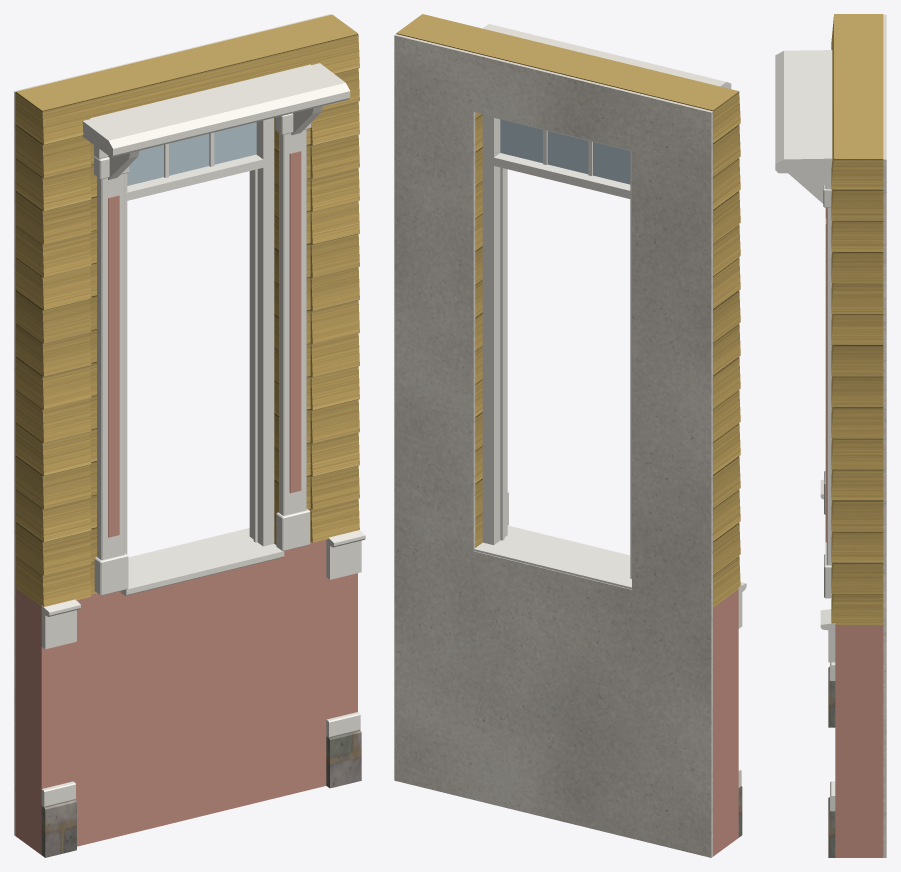
Rendered from f_g_door_a.glb.
3 views of the same model, side by side, from view 1: azimuth 30°, elevation 25°; view 2: azimuth 150°, elevation 25°; view 3: azimuth 270°, elevation 25° (orthographic). The views are drawn at different scales.
Parts seen in each view (by area): view 1: f_g_door_a_acc_a, f_g_door_a_siding_a, f_g_door_a_trim, f_g_door_a_frame, f_g_door_a_glass, f_g_door_a_plinth, f_g_door_a_plaster; view 2: f_g_door_a_plaster, f_g_door_a_siding_a, f_g_door_a_frame, f_g_door_a_trim, f_g_door_a_acc_a, f_g_door_a_glass; view 3: f_g_door_a_siding_a, f_g_door_a_acc_a, f_g_door_a_trim, f_g_door_a_plaster, f_g_door_a_plinth.
Part boxes in pixels (<box>): f_g_door_a_acc_a: <box>16,151,357,854</box>; f_g_door_a_siding_a: <box>16,14,359,606</box>; f_g_door_a_trim: <box>41,63,365,806</box>; f_g_door_a_frame: <box>124,118,274,554</box>; f_g_door_a_glass: <box>127,122,256,185</box>; f_g_door_a_plinth: <box>41,730,361,857</box>; f_g_door_a_plaster: <box>14,14,330,836</box>; f_g_door_a_plaster: <box>394,34,712,857</box>; f_g_door_a_siding_a: <box>396,14,740,607</box>; f_g_door_a_frame: <box>482,114,631,578</box>; f_g_door_a_trim: <box>474,24,746,787</box>; f_g_door_a_acc_a: <box>713,589,738,856</box>; f_g_door_a_glass: <box>500,119,630,184</box>; f_g_door_a_siding_a: <box>831,14,883,624</box>; f_g_door_a_acc_a: <box>825,207,883,857</box>; f_g_door_a_trim: <box>775,50,835,811</box>; f_g_door_a_plaster: <box>883,14,886,857</box>; f_g_door_a_plinth: <box>828,666,835,857</box>.
Size of the model in its own units: 2 by 4.5 by 0.65.
Materials: 7 (3 with a texture image).
